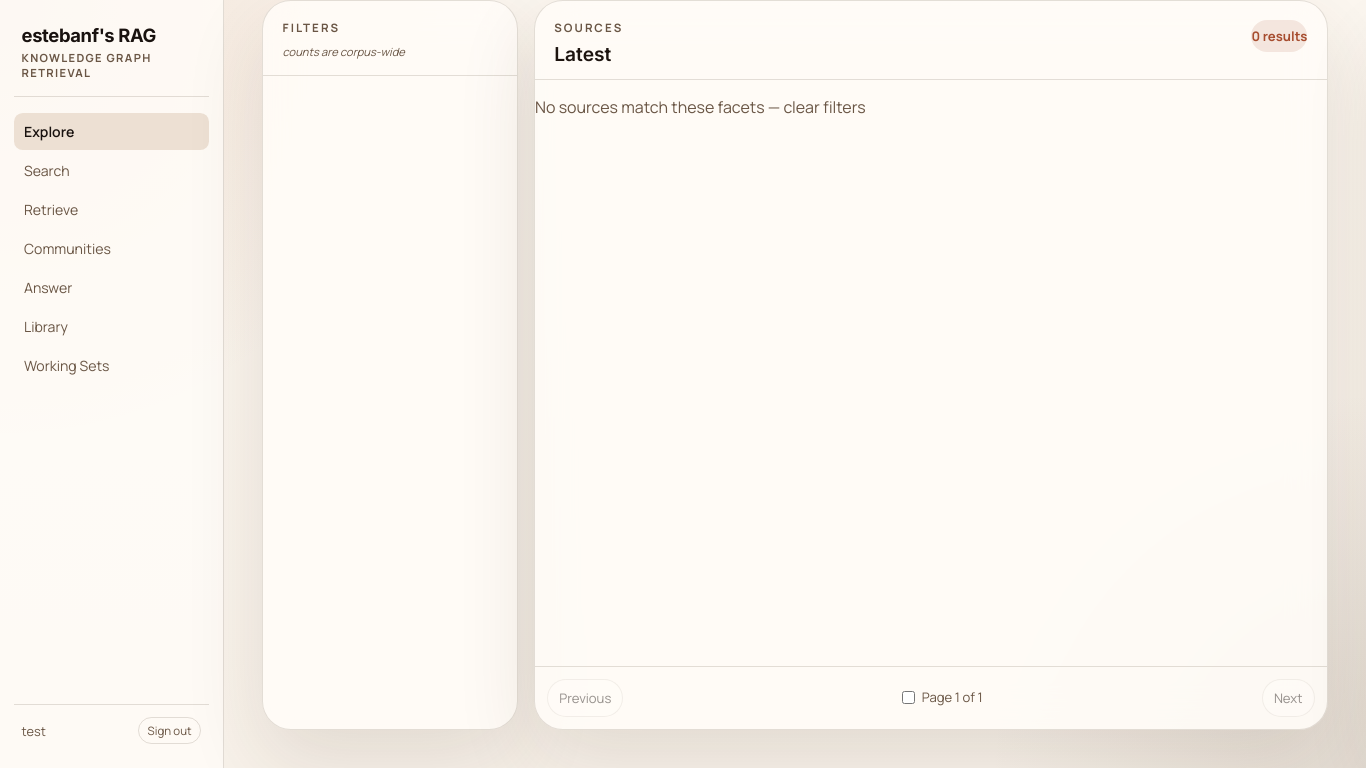
Test: App › submits search and renders shared result cards
Step 1. Click the button "Search" → (112, 170), box [14,152,209,189]
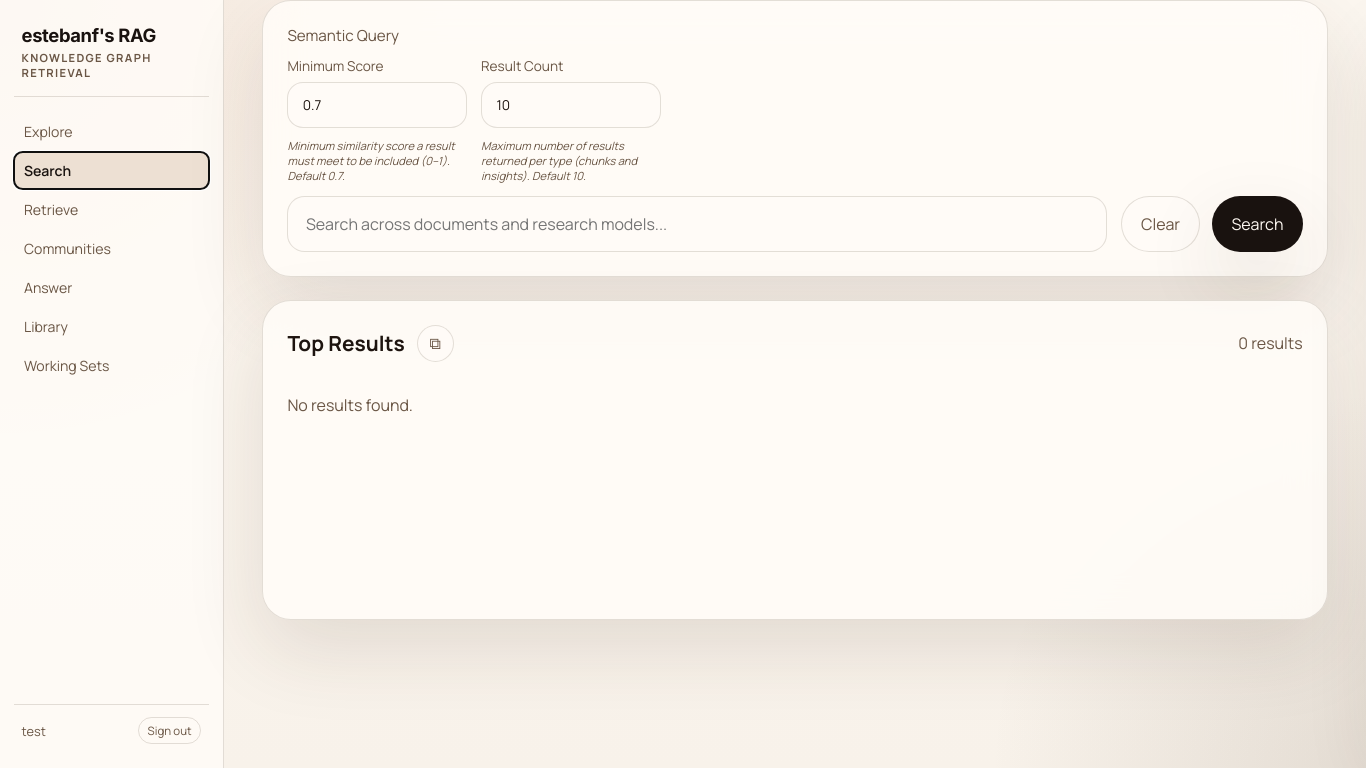
Step 2. Type "economics of agents" into the field labelled "Semantic Query" → (697, 224), box [287,196,1107,252]
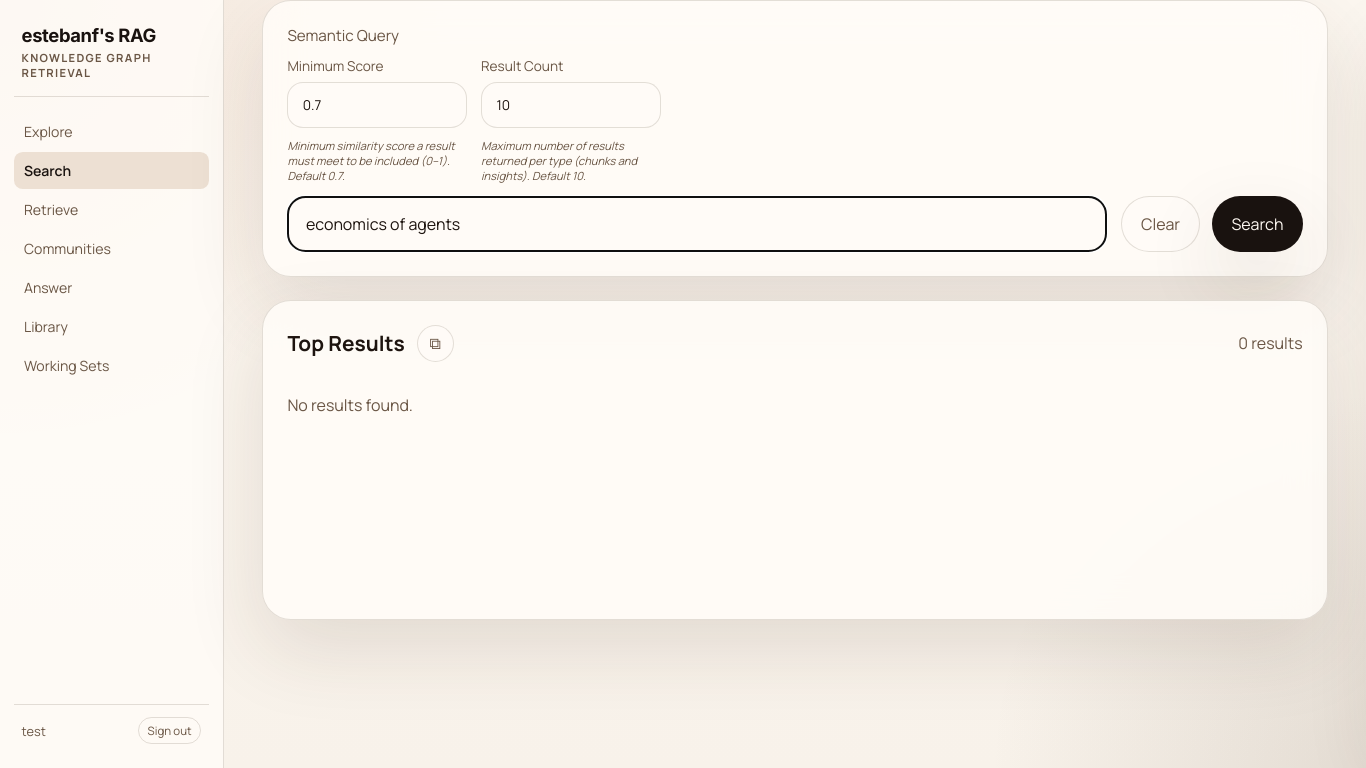
Step 3. Replace the text in the number field labelled "Minimum Score" with "0.55" → (377, 105), box [287,82,467,128]
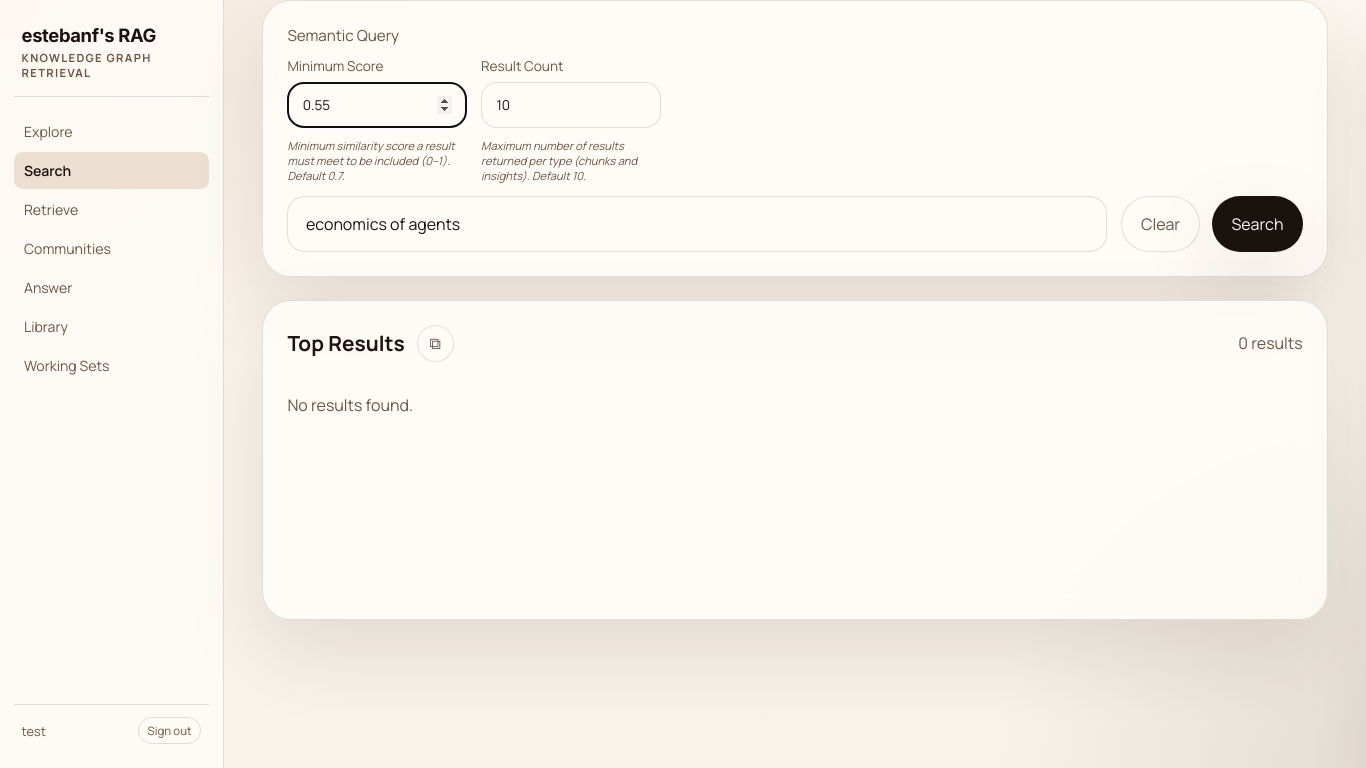
Step 4. Replace the text in the number field labelled "Result Count" with "7" → (571, 105), box [481,82,661,128]
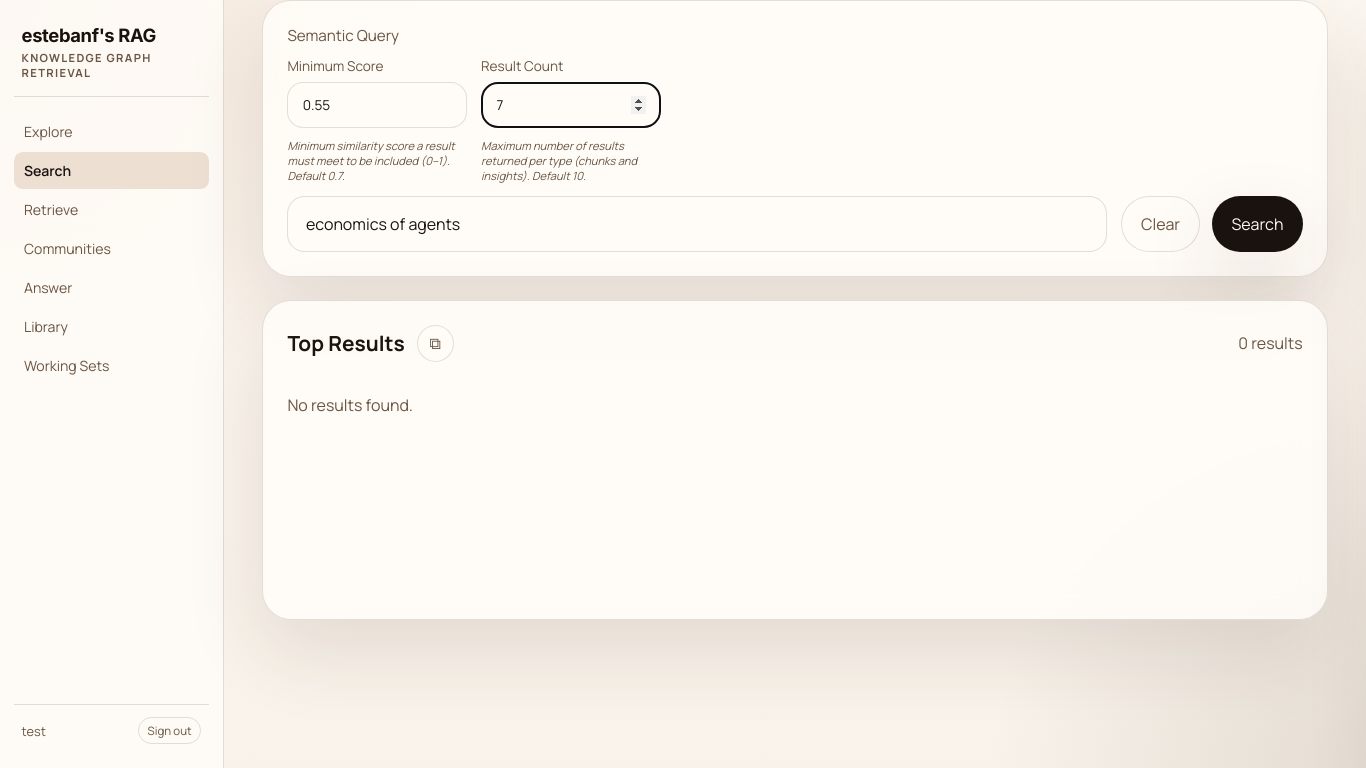
Step 5. Click the 2nd button "Search" → (1257, 224), box [1212,196,1303,252]
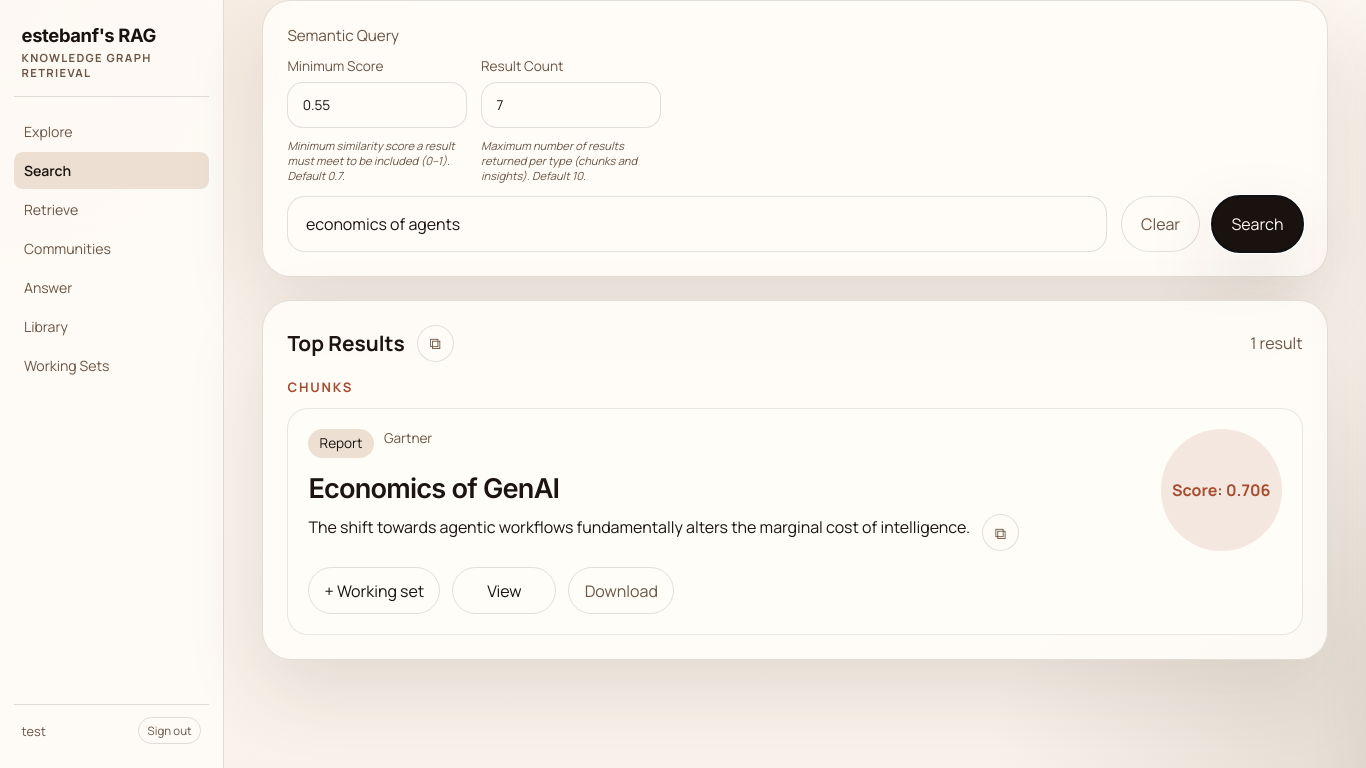
Now the heading "Top Results" is shown, box [287,329,405,357]
Now the heading "Economics of GenAI" is shown, box [308,472,559,505]
Now the text "Gartner" is shown, box [384,429,432,458]
